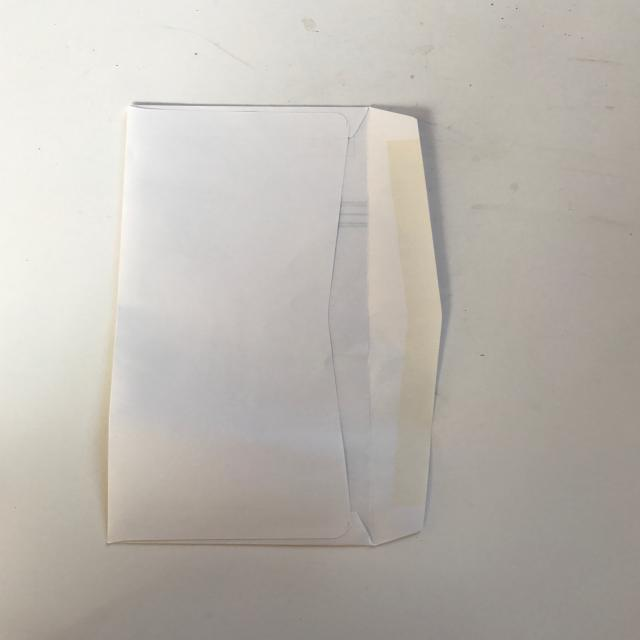paper: (76, 79, 463, 572)
